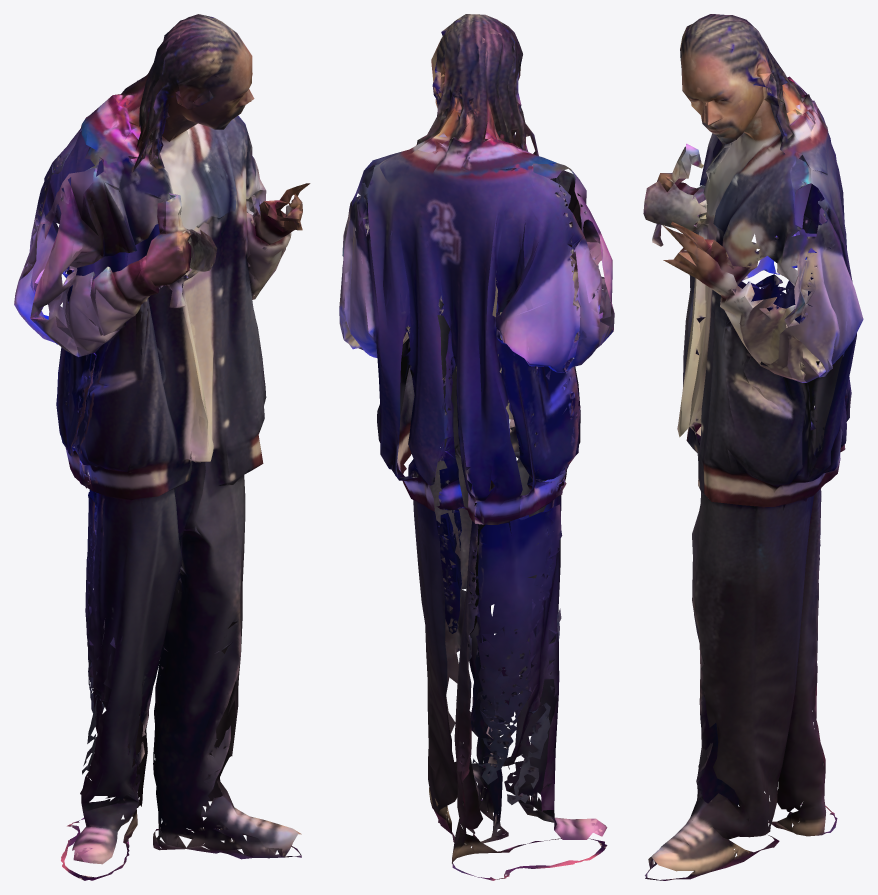
The model's file is snopdog.obj.
The picture shows the model from 3 angles, left to right: view 1: azimuth 30°, elevation 25°; view 2: azimuth 150°, elevation 25°; view 3: azimuth 270°, elevation 25°; orthographic projection. The views are drawn at different scales.
Visible parts, largest first — view 1: geo1_MAT_SnoopDogg_0; view 2: geo1_MAT_SnoopDogg_0; view 3: geo1_MAT_SnoopDogg_0.
Boxes of the visible parts, x1,y1,x2,y2 form: geo1_MAT_SnoopDogg_0: [14, 14, 310, 880]; geo1_MAT_SnoopDogg_0: [339, 14, 614, 880]; geo1_MAT_SnoopDogg_0: [643, 14, 863, 880].
Size of the model in its own units: 0.6407 by 1.96 by 0.4701.
Materials: 1 (1 with a texture image).
